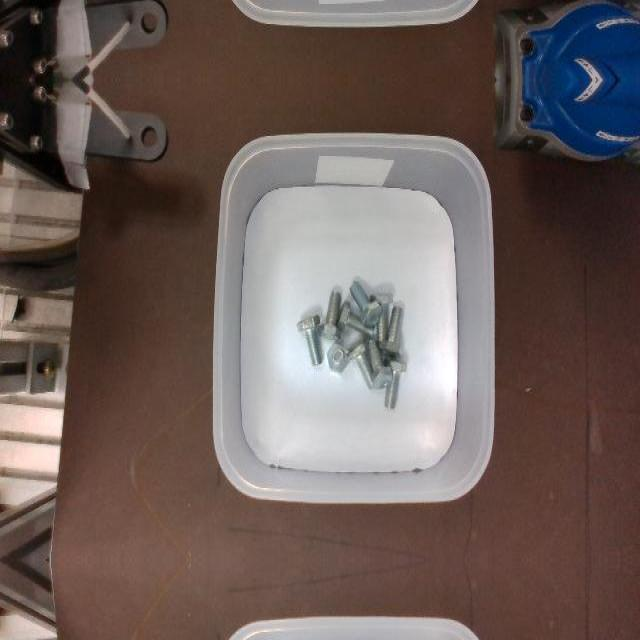screw: (348, 279, 381, 327), (297, 315, 322, 365), (368, 339, 393, 389), (318, 291, 341, 341), (379, 305, 402, 355), (327, 342, 350, 372)
